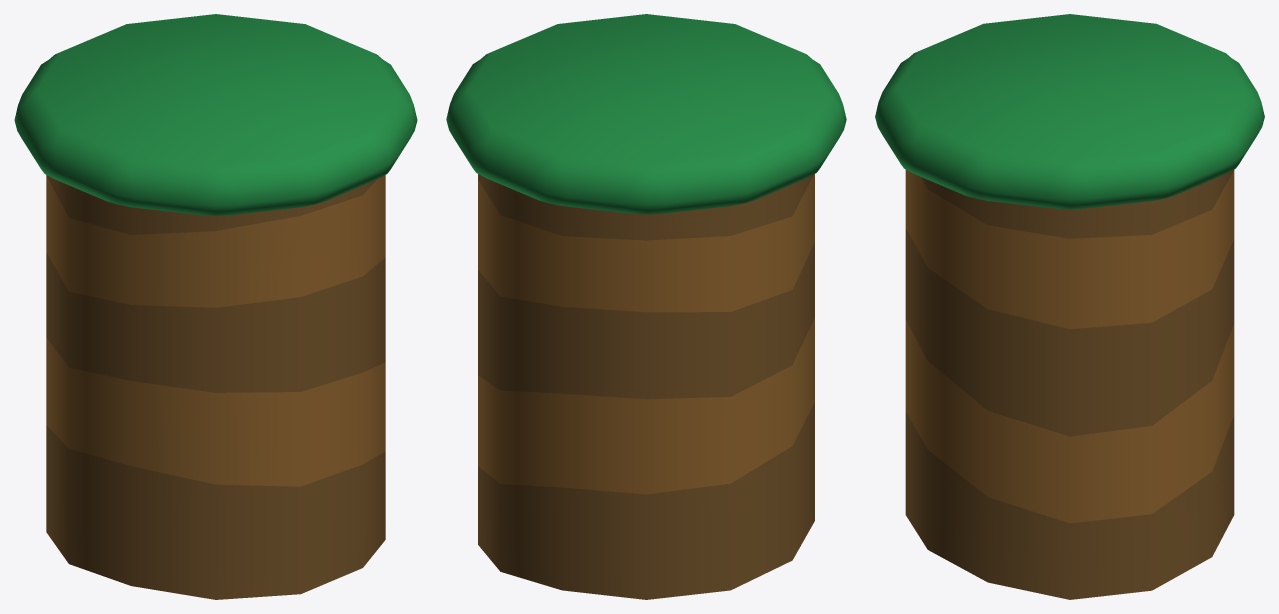
File: Plateforme_Ronde_1.fbx
3 views of the same model, side by side, from view 1: azimuth 30°, elevation 25°; view 2: azimuth 150°, elevation 25°; view 3: azimuth 270°, elevation 25° (orthographic). The views are drawn at different scales.
Visible parts, largest first — view 1: Cylinder.002; view 2: Cylinder.002; view 3: Cylinder.002.
Part boxes in pixels (left/top/right/bottom): Cylinder.002: left=14, top=14, right=417, bottom=599; Cylinder.002: left=446, top=14, right=846, bottom=599; Cylinder.002: left=875, top=14, right=1264, bottom=599.
Size of the model in its own units: 524 by 658 by 524.
